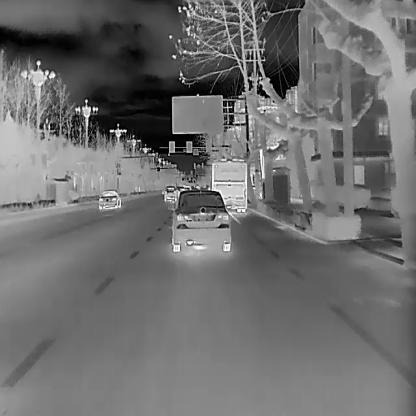bus: (211, 157, 247, 212)
car: (167, 188, 231, 251), (98, 188, 121, 208), (163, 184, 177, 200)
